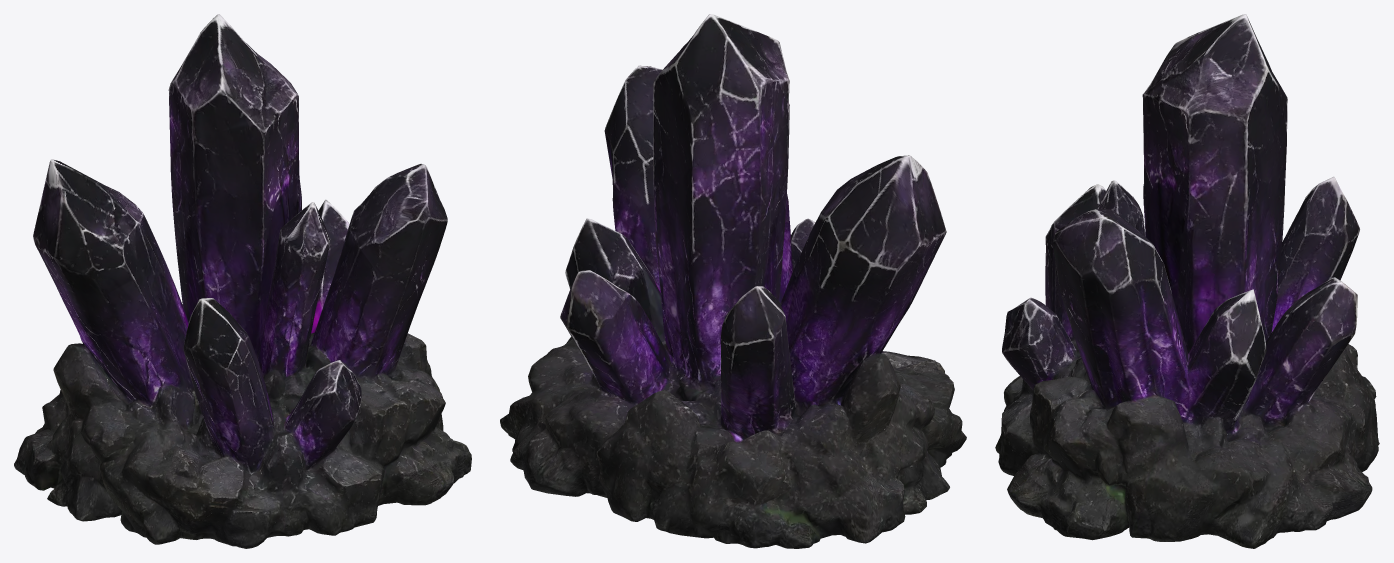
The model's file is 15_Crystal_Cluster.glb.
3 views of the same model, side by side, from view 1: azimuth 30°, elevation 25°; view 2: azimuth 150°, elevation 25°; view 3: azimuth 270°, elevation 25° (orthographic). The views are drawn at different scales.
Bounding box in the file's own units: 1.77 × 1.9 × 1.5.
1 material, 1 textured.
